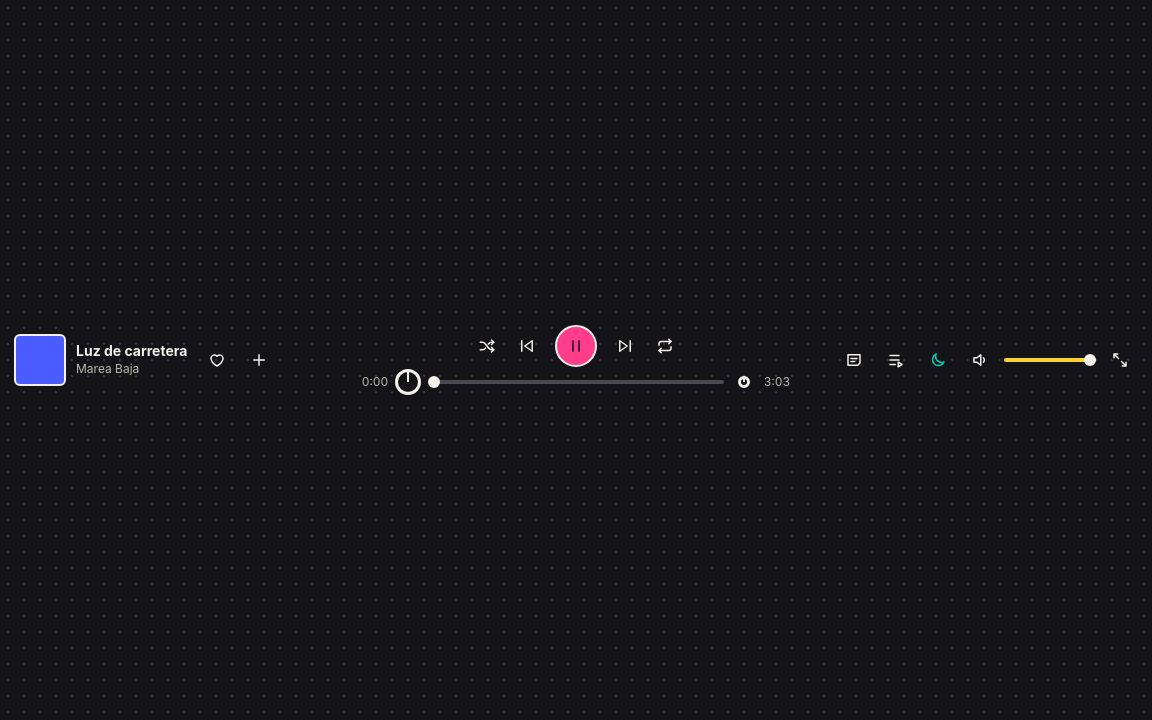
Test: con el temporizador de pista activo lo dice con palabras
Click the button named "Temporizador" at point(938, 360), box [920,342,956,378]
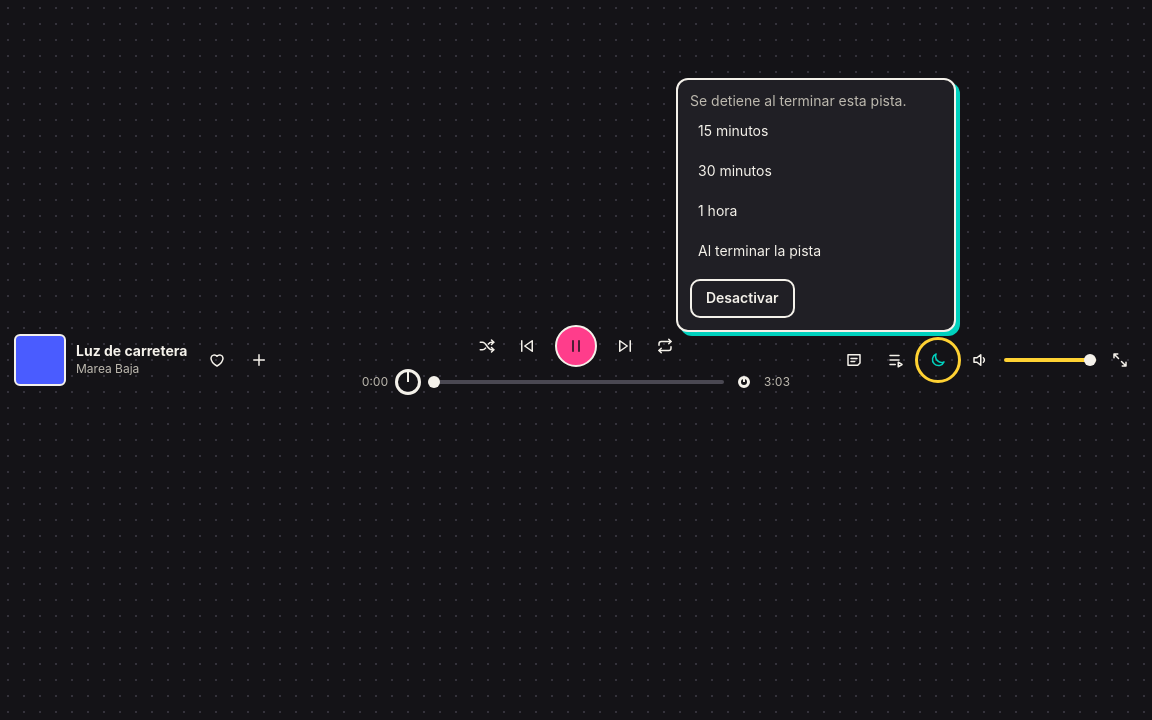
Check: the text "Se detiene al terminar esta pista." is shown, box [690,92,942,111]
